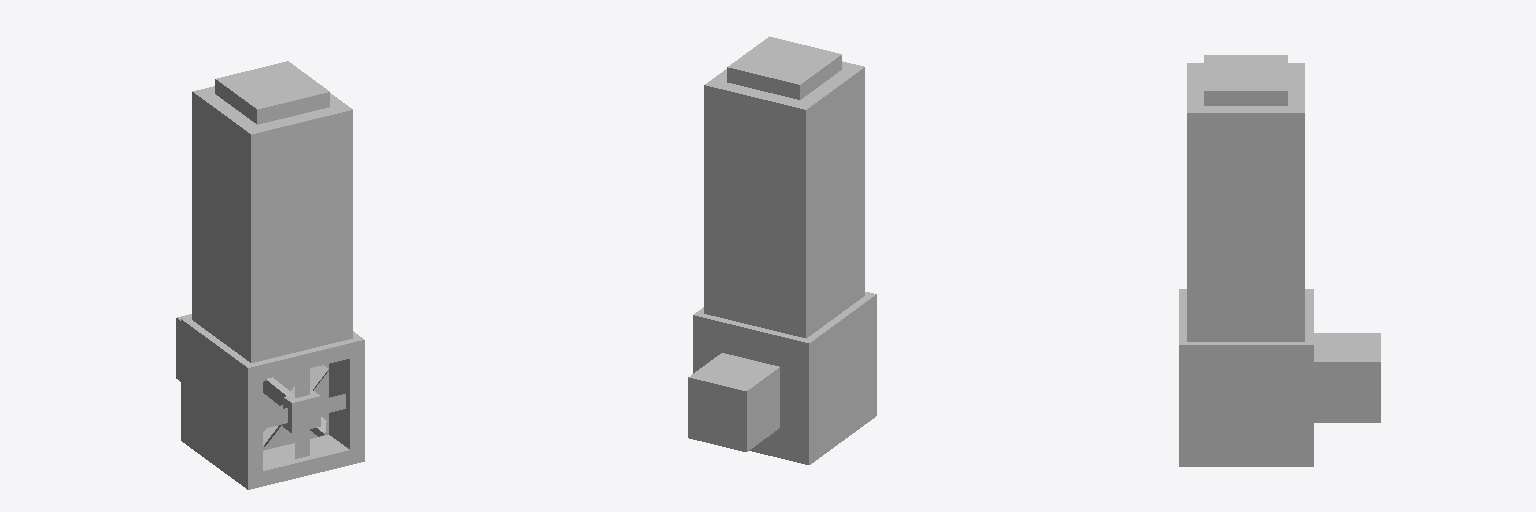
Rendered from blastfurnace_preheater.obj.
The picture shows the model from 3 angles: view 1: azimuth 30°, elevation 25°; view 2: azimuth 150°, elevation 25°; view 3: azimuth 270°, elevation 25°; orthographic projection.
Visible parts, largest first — view 1: preheater, fan; view 2: preheater; view 3: preheater.
Boxes of the visible parts, box(x1,y1,x2,y2) form: preheater: box(176, 61, 364, 489); fan: box(263, 365, 328, 446); preheater: box(688, 36, 876, 464); preheater: box(1179, 55, 1380, 466).
Size of the model in its own units: 1 by 3 by 1.5.